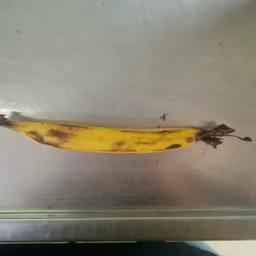Banana Semifresh: (0, 115, 253, 153)
